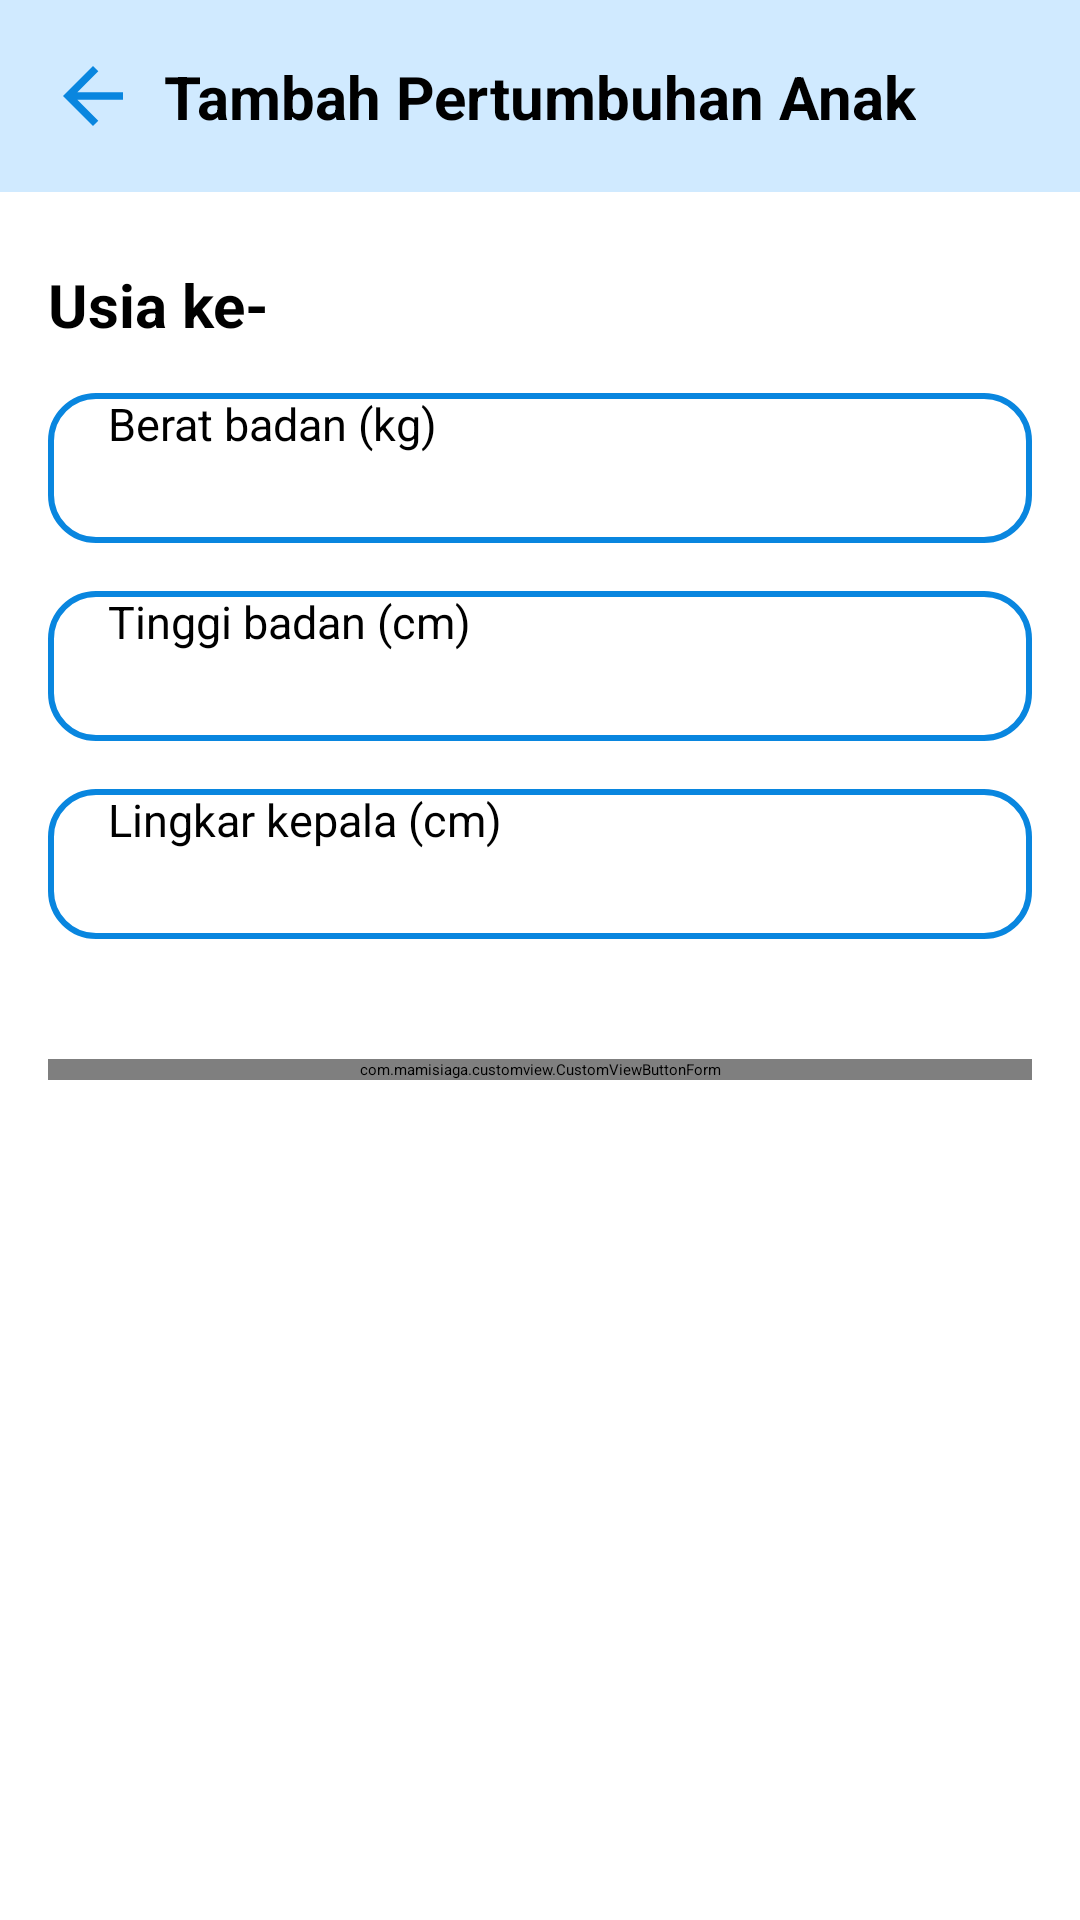

Named icons in this screenshot (1080px x 1920px) and their centers, point (x, y):
arrow back: point (93, 96)
